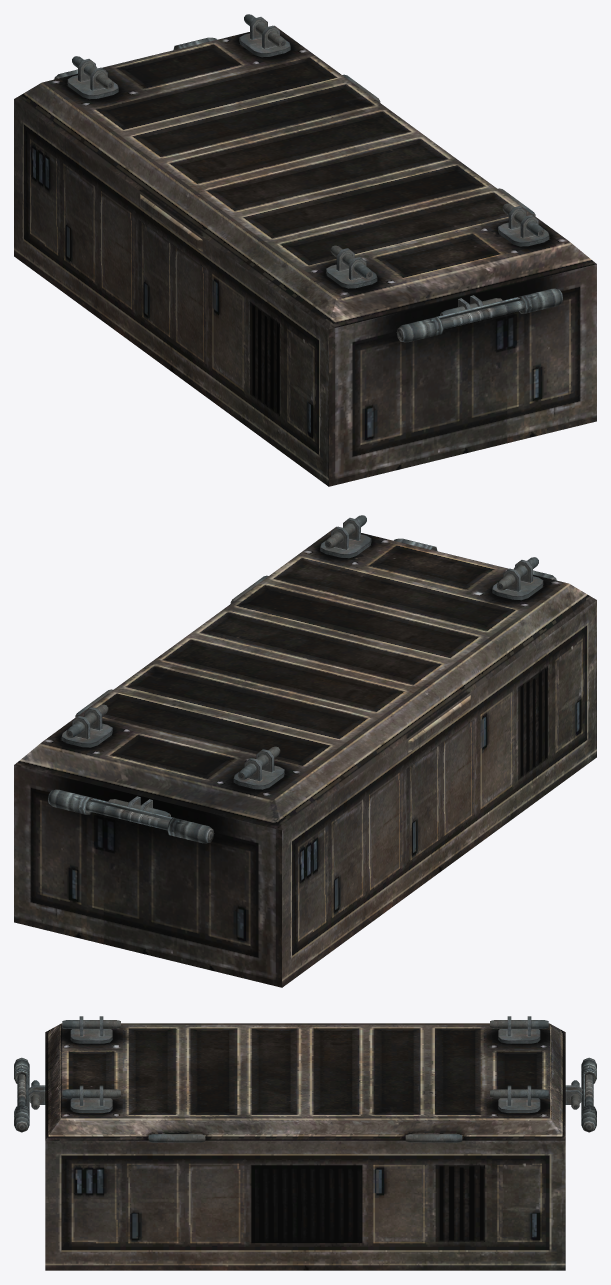
The model's file is caja_armas.obj.
3 views of the same model, one above another, from view 1: azimuth 30°, elevation 25°; view 2: azimuth 150°, elevation 25°; view 3: azimuth 270°, elevation 25° (orthographic). The views are drawn at different scales.
Visible parts, largest first — view 1: caja_armas; view 2: caja_armas; view 3: caja_armas.
Boxes of the visible parts, left/top/right/bottom form: caja_armas: left=14, top=14, right=596, bottom=486; caja_armas: left=14, top=515, right=596, bottom=987; caja_armas: left=14, top=1016, right=596, bottom=1270.
Size of the model in its own units: 48.53 by 33.95 by 109.
4 materials, 4 textured.
